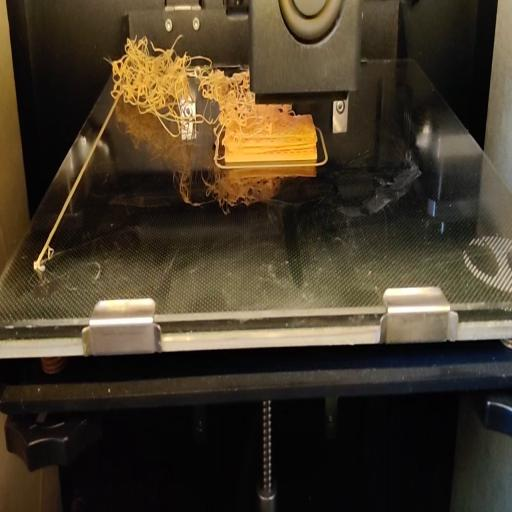spaghetti: (107, 35, 208, 144), (208, 68, 252, 144)
